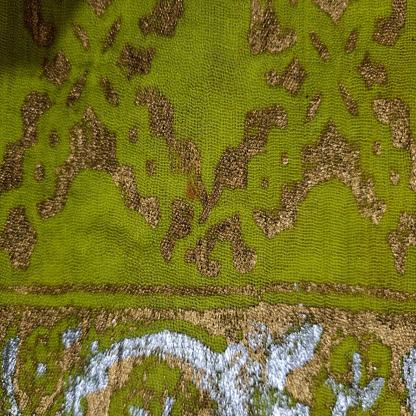spot: (184, 169, 198, 208)
